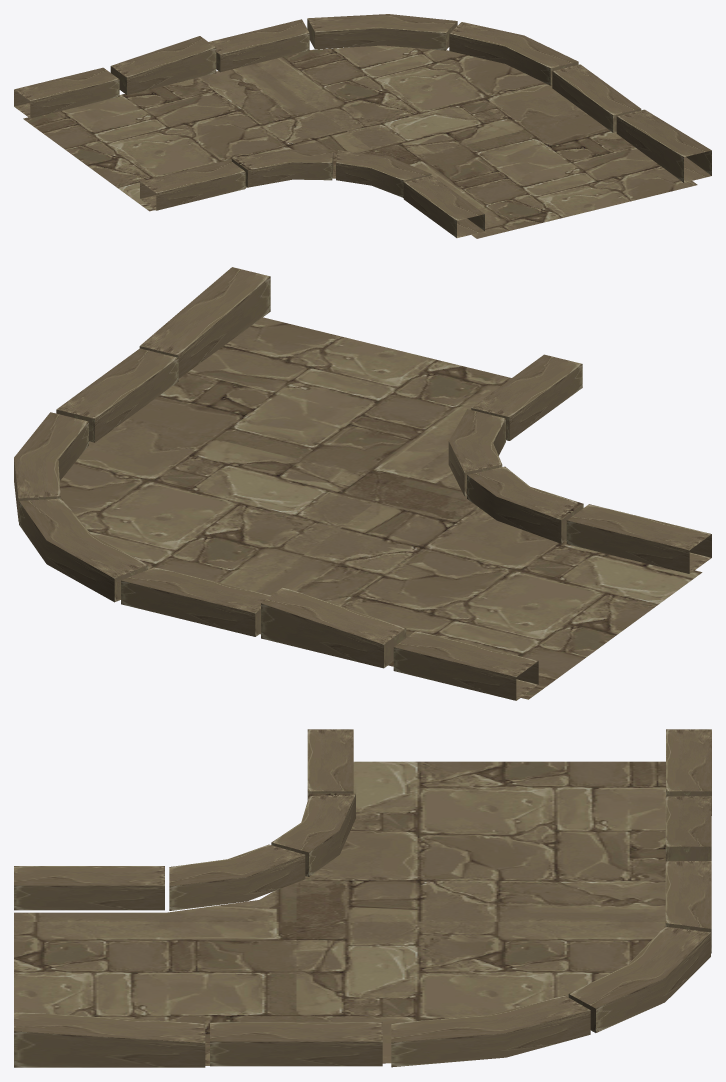
The model's file is bfcs_daolu_03.FBX.
The picture shows the model from 3 angles, top to bottom: view 1: azimuth 30°, elevation 25°; view 2: azimuth 150°, elevation 25°; view 3: azimuth 270°, elevation 25°; orthographic projection. The views are drawn at different scales.
Parts seen in each view (by area): view 1: bfcs_daolu_03; view 2: bfcs_daolu_03; view 3: bfcs_daolu_03.
Part boxes in pixels (x1,y1,x2,y2): bfcs_daolu_03: [14, 14, 711, 238]; bfcs_daolu_03: [14, 267, 711, 700]; bfcs_daolu_03: [14, 729, 711, 1067].
Bounding box in the file's own units: 254 × 16.72 × 239.
